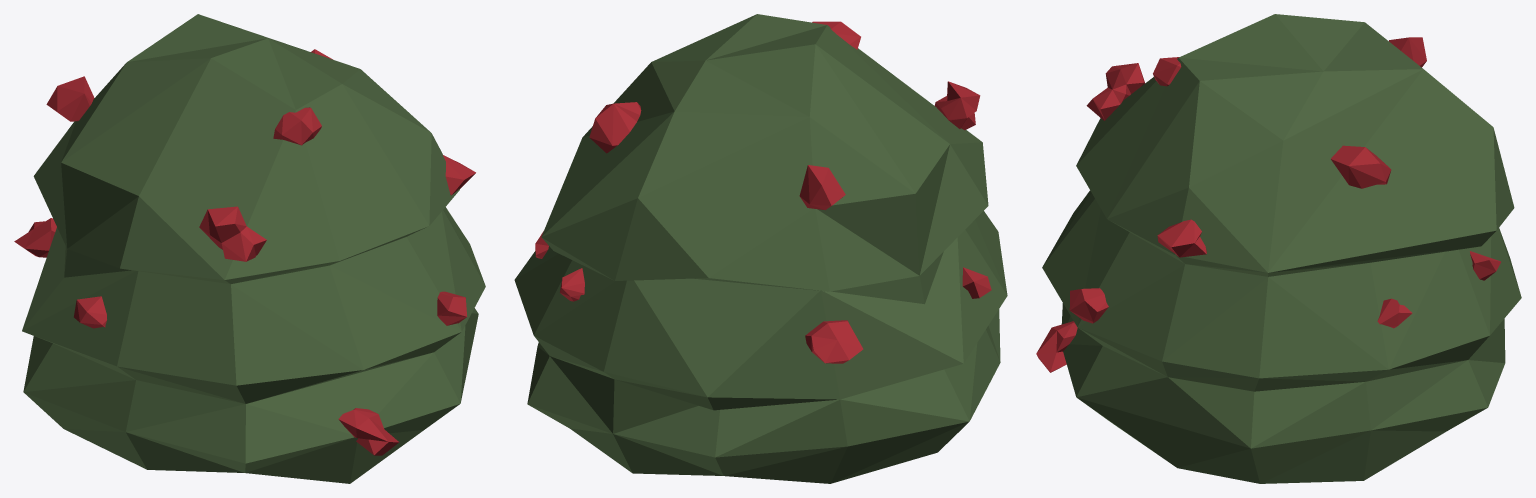
The model's file is plant_bush_berries.glb.
3 renders of one model, left to right at view 1: azimuth 30°, elevation 25°; view 2: azimuth 150°, elevation 25°; view 3: azimuth 270°, elevation 25°, orthographic. The views are drawn at different scales.
Parts seen in each view (by area): view 1: plant_bush_berries; view 2: plant_bush_berries; view 3: plant_bush_berries.
Part boxes in pixels (x1,y1,x2,y2): plant_bush_berries: (14, 14, 485, 483); plant_bush_berries: (514, 14, 1007, 483); plant_bush_berries: (1036, 14, 1521, 483).
Size of the model in its own units: 1.5 by 1.27 by 1.49.
